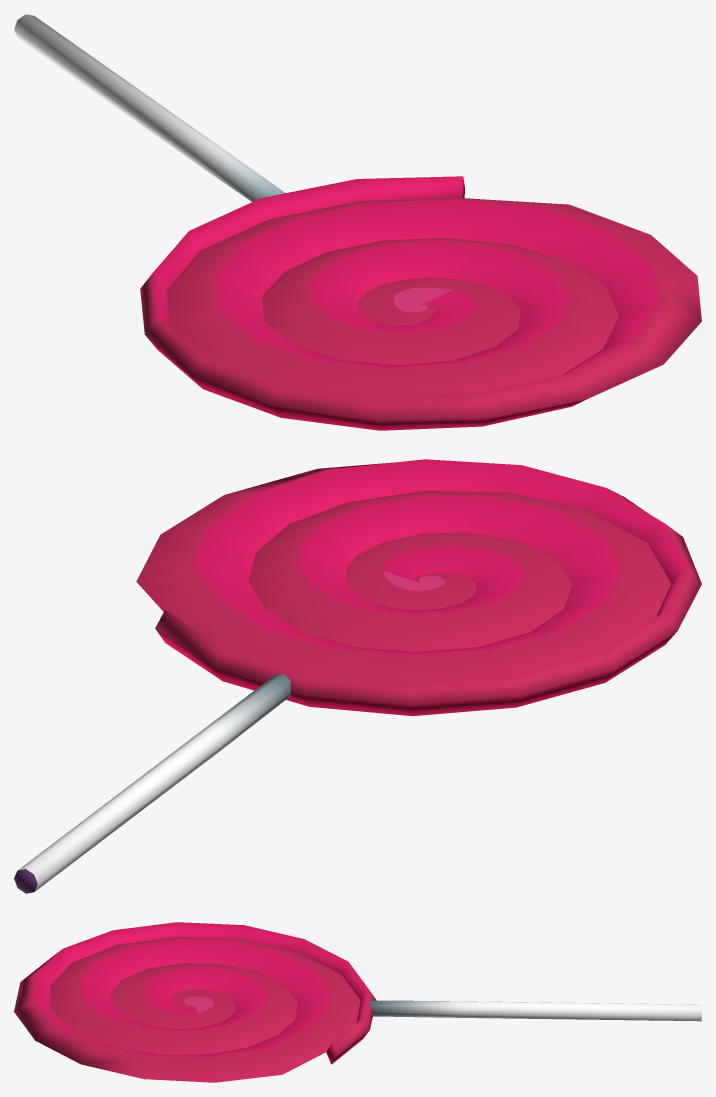
File: Lollipop_Swirl.fbx
3 views of the same model, one above another, from view 1: azimuth 30°, elevation 25°; view 2: azimuth 150°, elevation 25°; view 3: azimuth 270°, elevation 25° (orthographic). The views are drawn at different scales.
Parts seen in each view (by area): view 1: Lollipop_Swirl; view 2: Lollipop_Swirl; view 3: Lollipop_Swirl.
Boxes of the visible parts, x1,y1,x2,y2 form: Lollipop_Swirl: [14, 14, 701, 430]; Lollipop_Swirl: [14, 459, 701, 893]; Lollipop_Swirl: [14, 922, 701, 1082].
Size of the model in its own units: 27.87 by 2.34 by 52.9.
